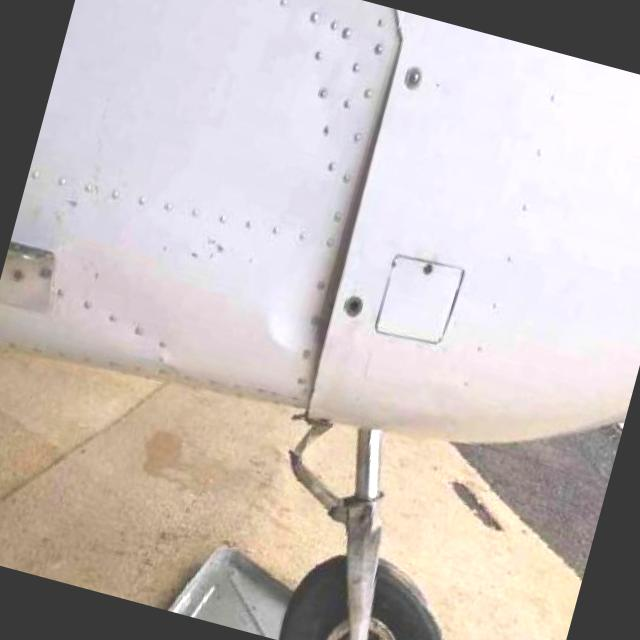crack: (302, 105, 389, 396)
dent: (261, 296, 300, 359)
